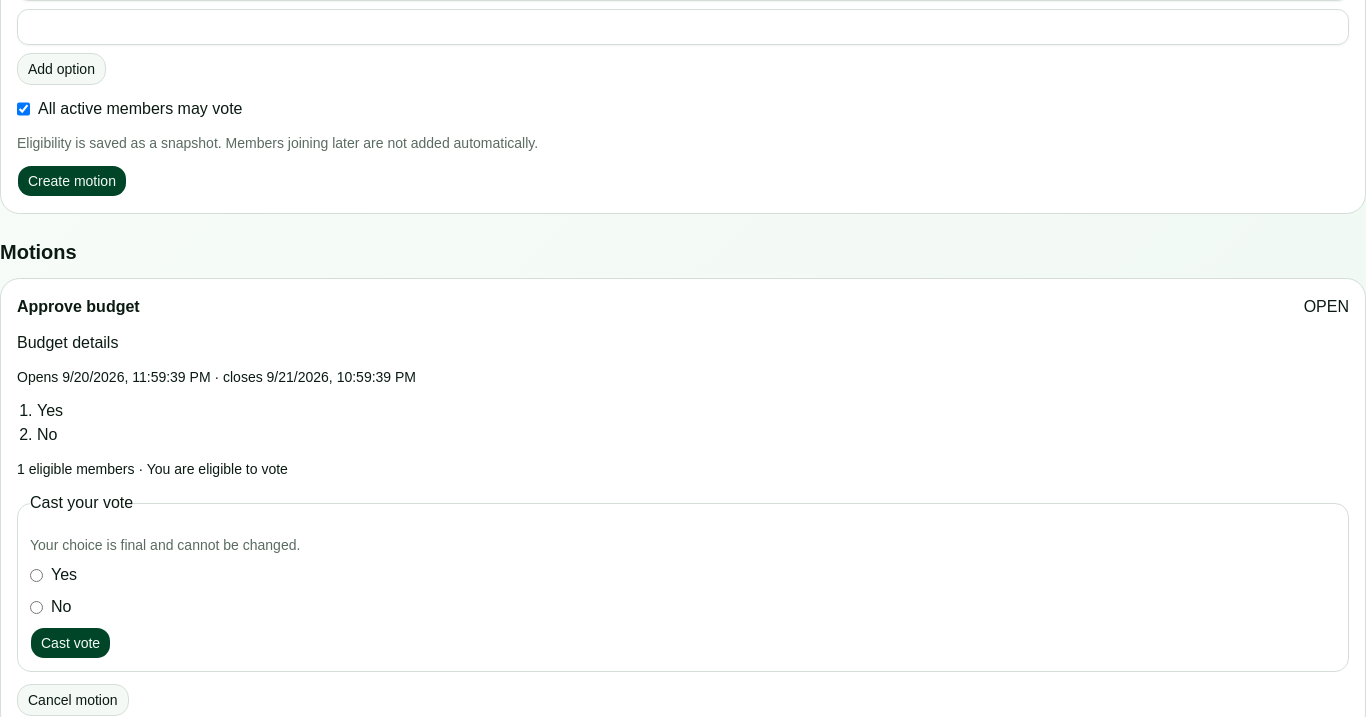
requires a choice, casts one ballot, and replaces the ballot with a receipt
(page scrolled)
Expected: the heading "Approve budget" is shown, [17,295,140,319]
What coordinates should you click on to do the following:
click the button "Cast vote"
I would click on:
 (71, 643)
Its box is [30,627,111,659].
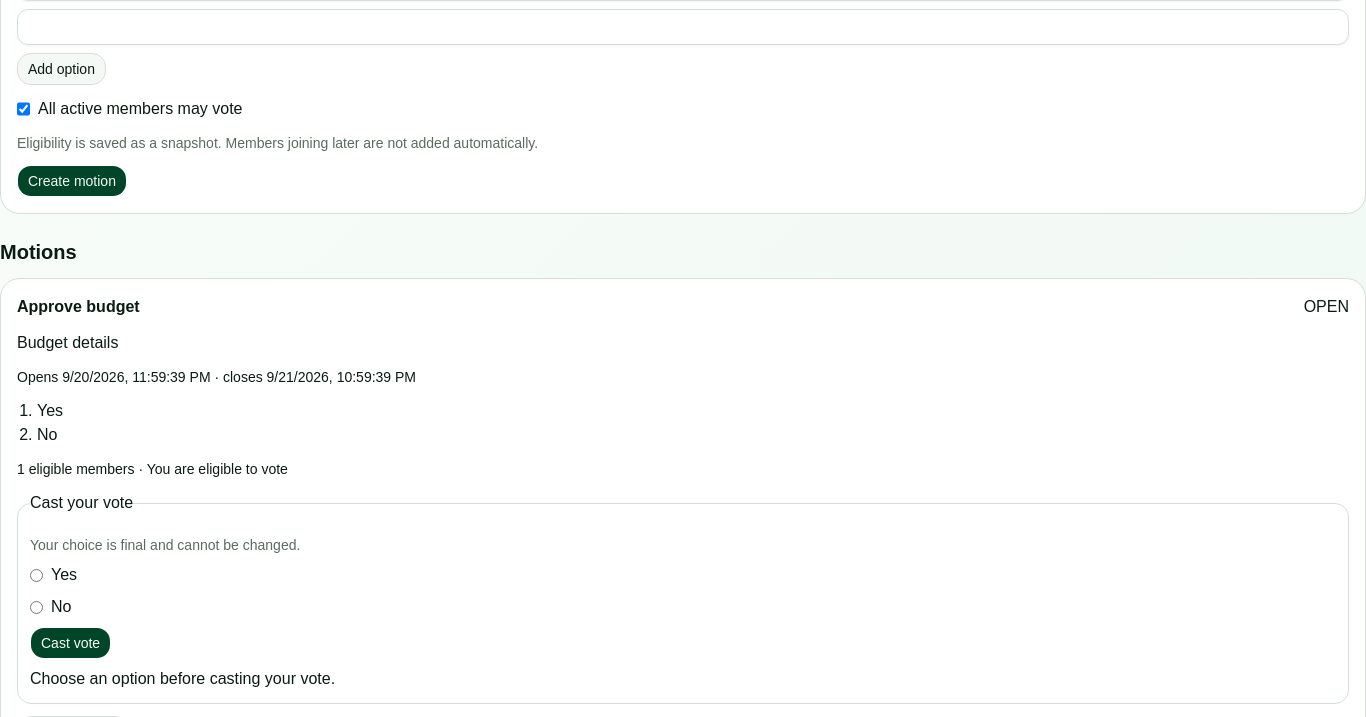
Expected: the message reads "Choose an option before casting your vote.", [30,670,335,687]
What coordinates should you click on to do the following:
click the radio button labelled "Yes"
I would click on:
 (36, 575)
Its box is [30,568,43,582].
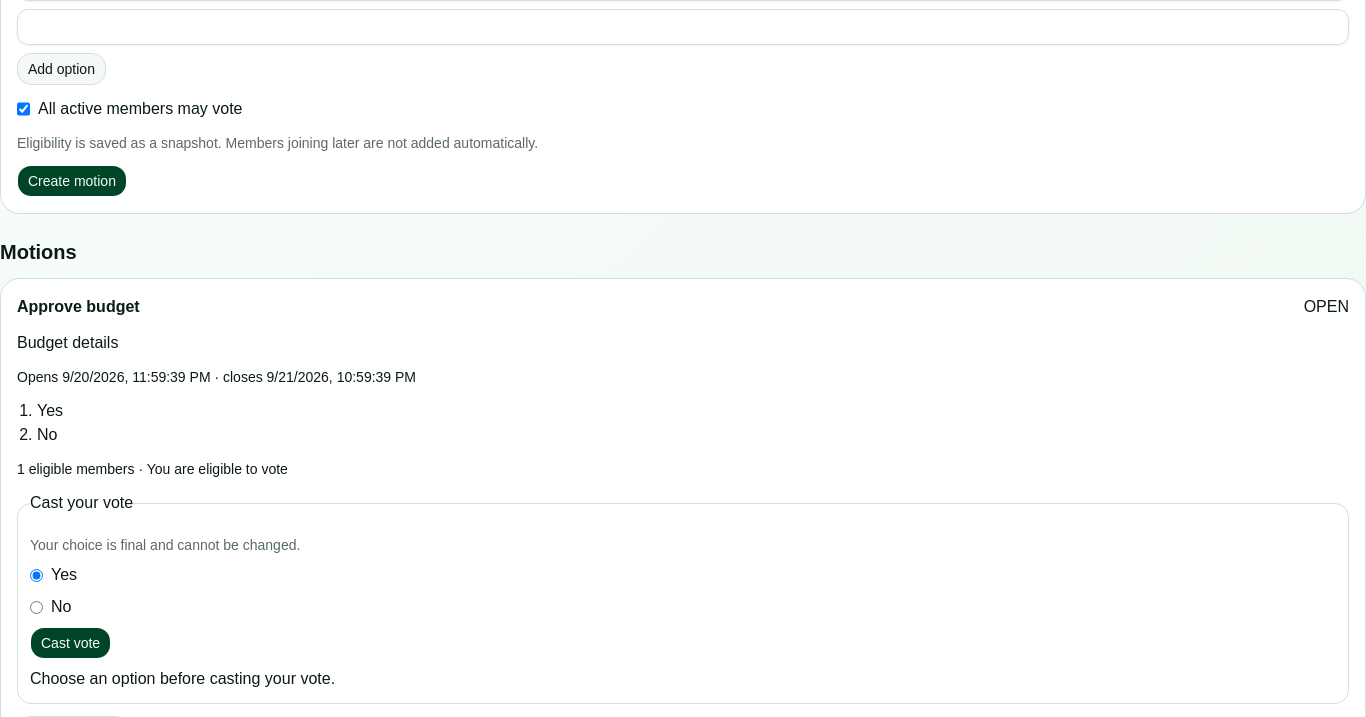
What coordinates should you click on to do the following:
click the button "Cast vote"
I would click on:
 (71, 643)
Its box is [30,627,111,659].
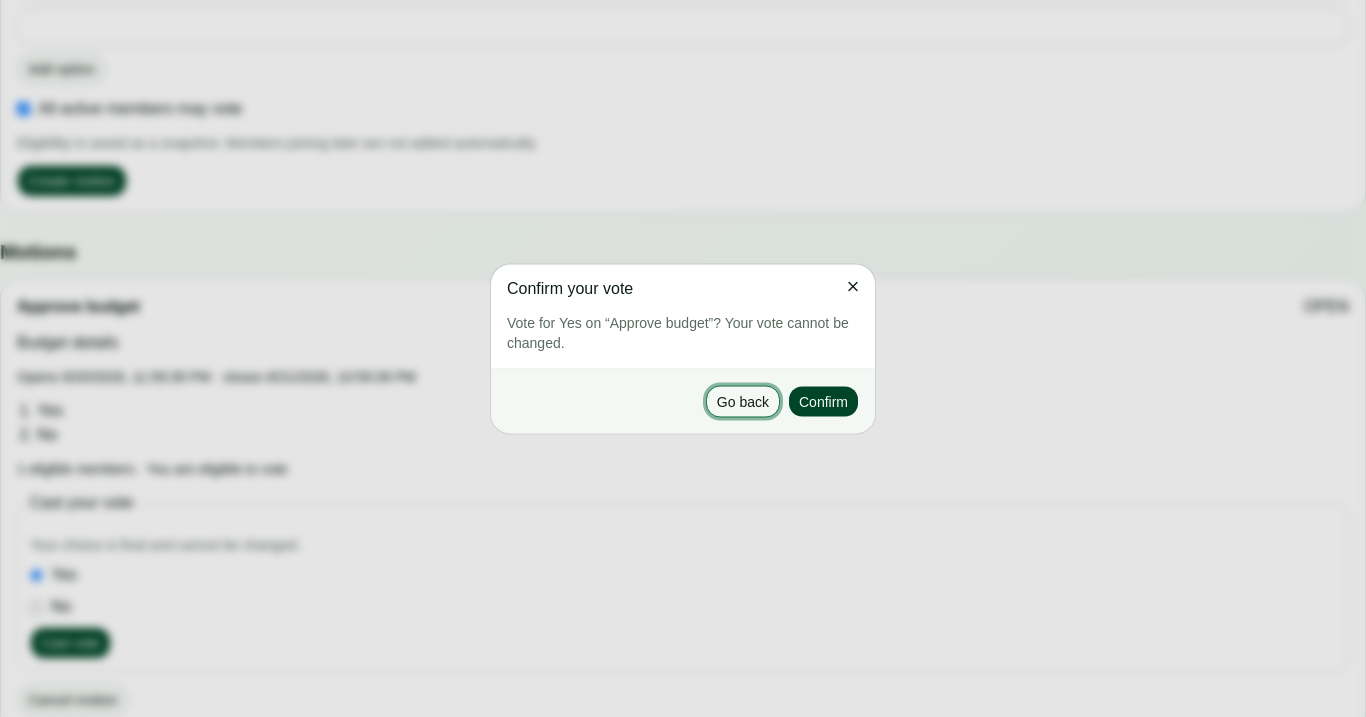
What coordinates should you click on to do the following:
click the button "Confirm"
I would click on:
 (824, 402)
Its box is [788,386,859,418].
(page scrolled)
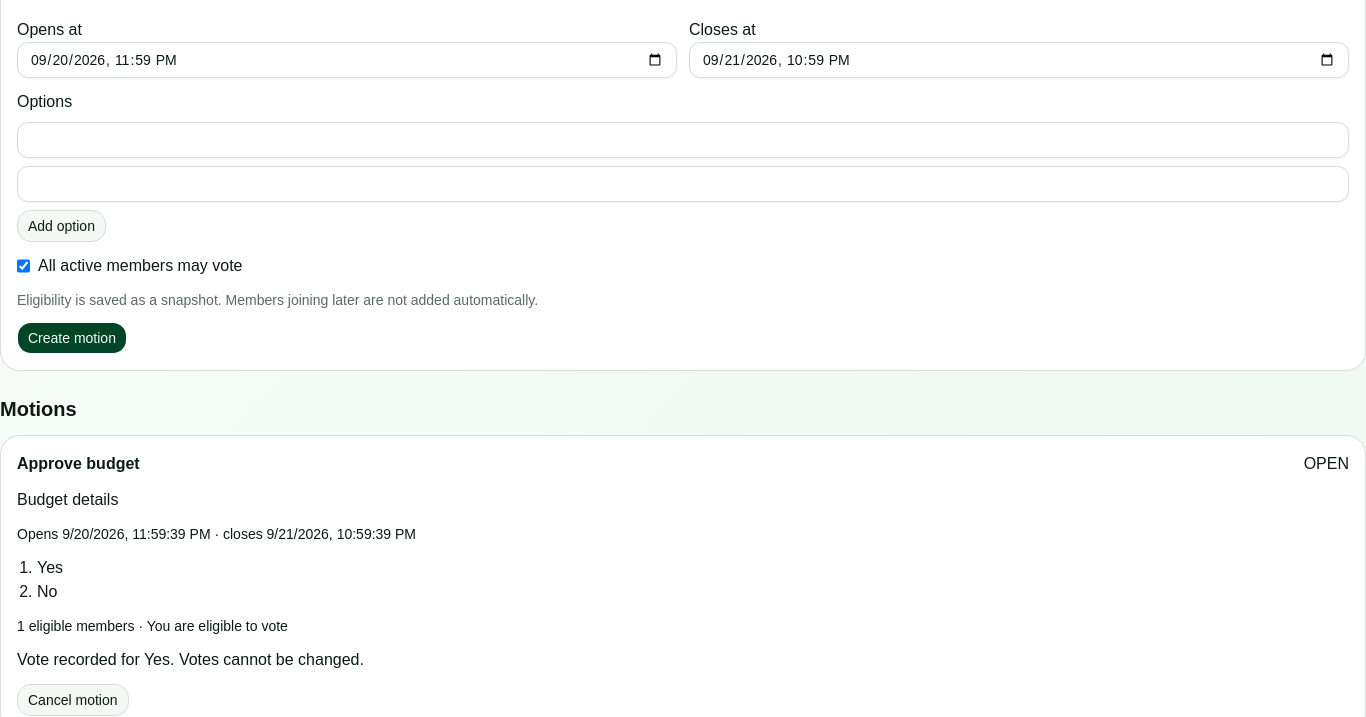
Expected: the message reads "Vote recorded for Yes. Votes cannot be changed.", [17,651,364,668]
Expected: the button "Cast vote" is gone
